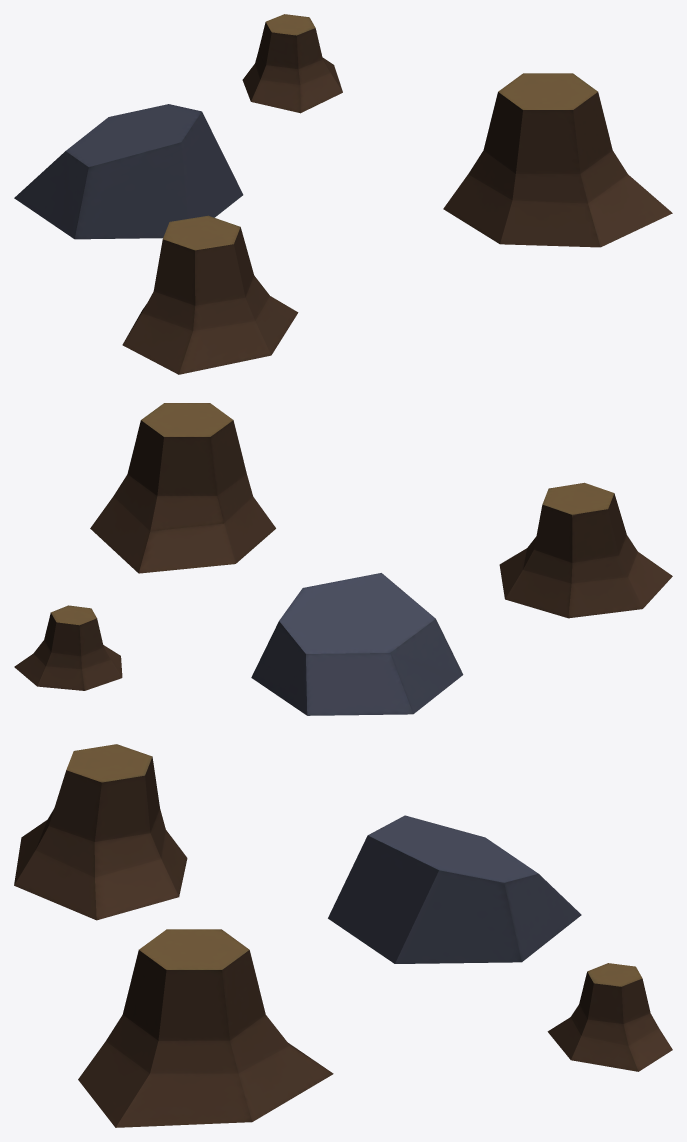
The model's file is tile_wood_5_ruin.fbx.
3 views of the same model, one above another, from view 1: azimuth 30°, elevation 25°; view 2: azimuth 150°, elevation 25°; view 3: azimuth 270°, elevation 25° (orthographic). The views are drawn at different scales.
Parts seen in each view (by area): view 1: wood_5_ruin; view 2: wood_5_ruin; view 3: wood_5_ruin.
Part boxes in pixels (<box>): wood_5_ruin: <box>14,14,672,374</box>; wood_5_ruin: <box>14,403,672,715</box>; wood_5_ruin: <box>14,744,672,1127</box>.
Size of the model in its own units: 0.0236 by 0.00483 by 0.0222.
